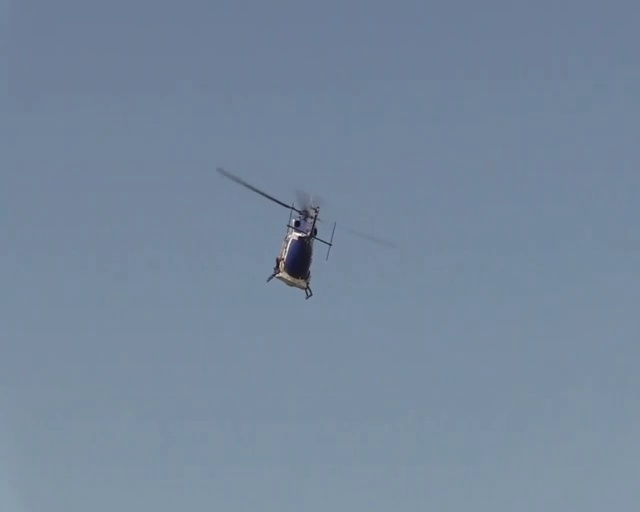HELICOPTER: (216, 166, 398, 299)
